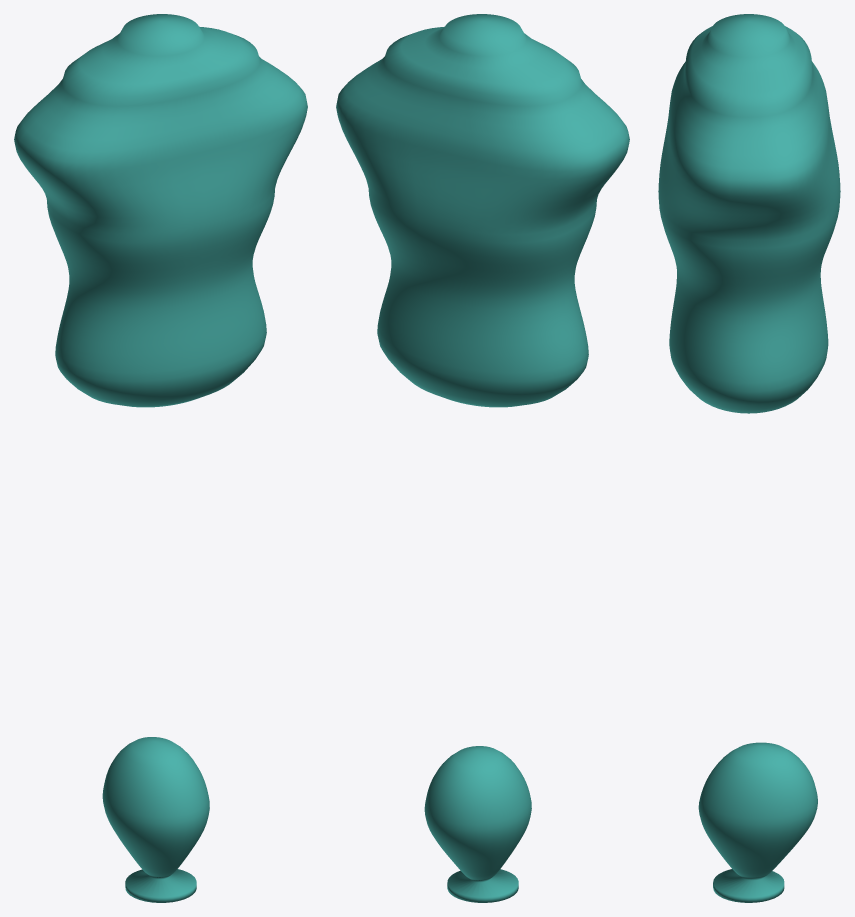
The model's file is creature.glb.
3 renders of one model, left to right at view 1: azimuth 30°, elevation 25°; view 2: azimuth 150°, elevation 25°; view 3: azimuth 270°, elevation 25°, orthographic.
Parts seen in each view (by area): view 1: Body, Head; view 2: Body, Head; view 3: Body, Head.
Part boxes in pixels (left/top/right/bottom): Body: left=14, top=14, right=307, bottom=407; Head: left=102, top=737, right=209, bottom=902; Body: left=336, top=14, right=629, bottom=407; Head: left=424, top=746, right=531, bottom=902; Body: left=658, top=14, right=840, bottom=413; Head: left=698, top=742, right=817, bottom=902.
Bounding box in the file's own units: 0.4517 × 1.4 × 0.2654.
